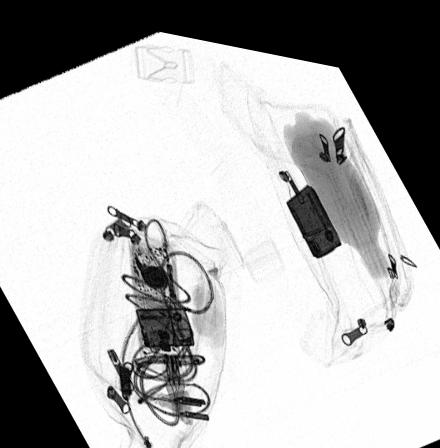Lighter: (284, 172, 340, 246), (134, 300, 194, 341)
